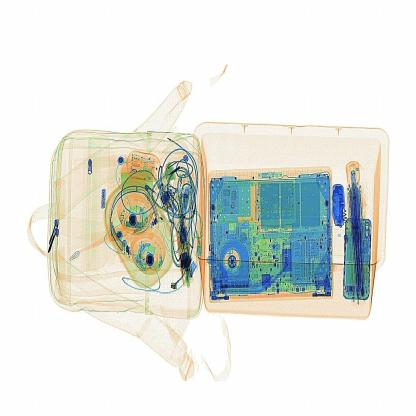scissors: (328, 178, 351, 228)
